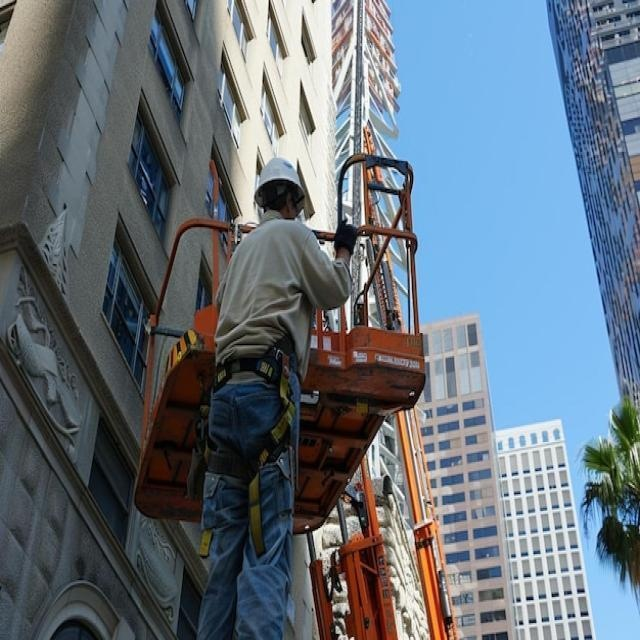Arnes_seguridad: (194, 342, 295, 555)
